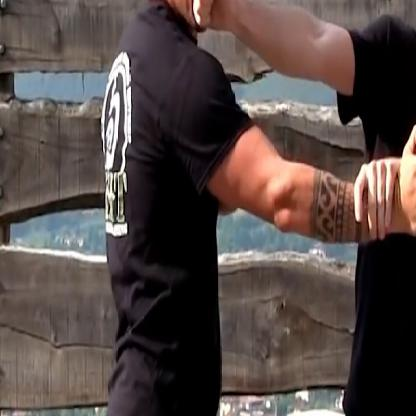knife: (406, 122, 416, 346)
